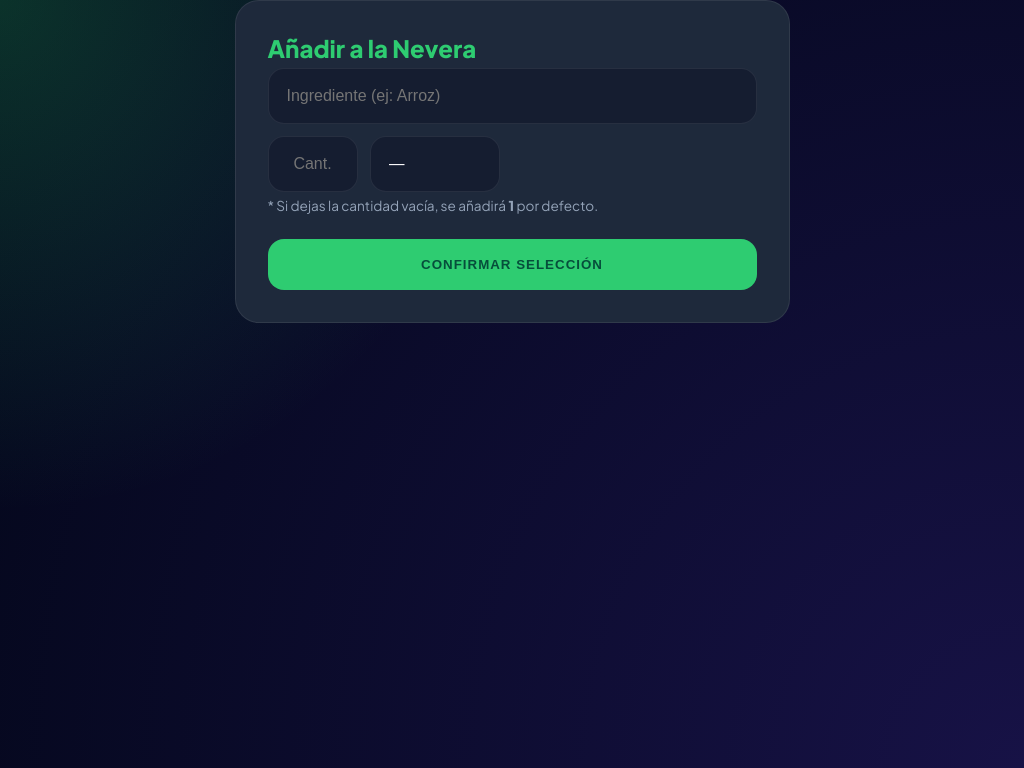
it: Buscador › Muestra mensaje de error local si se intenta confirmar sin seleccionar ingrediente
Click the button "Confirmar Selección".
click(512, 264)  # box 268,239 -> 756,290
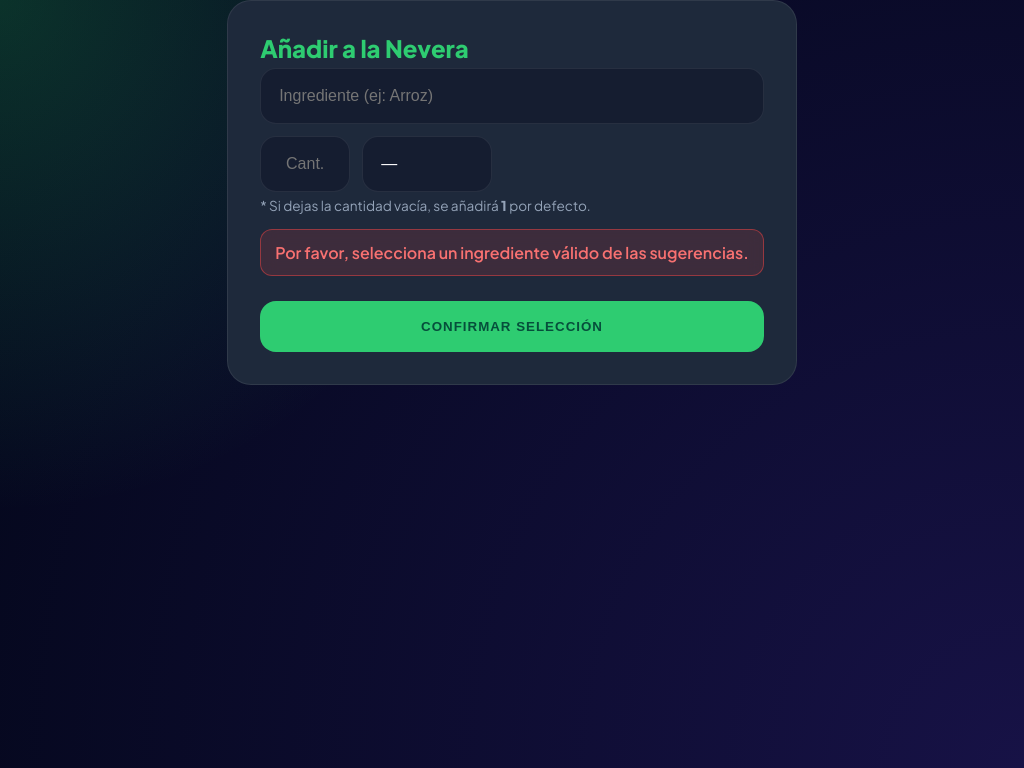
Now the text "Por favor, selecciona un ingrediente válido" is shown, box 275,242 -> 749,263
